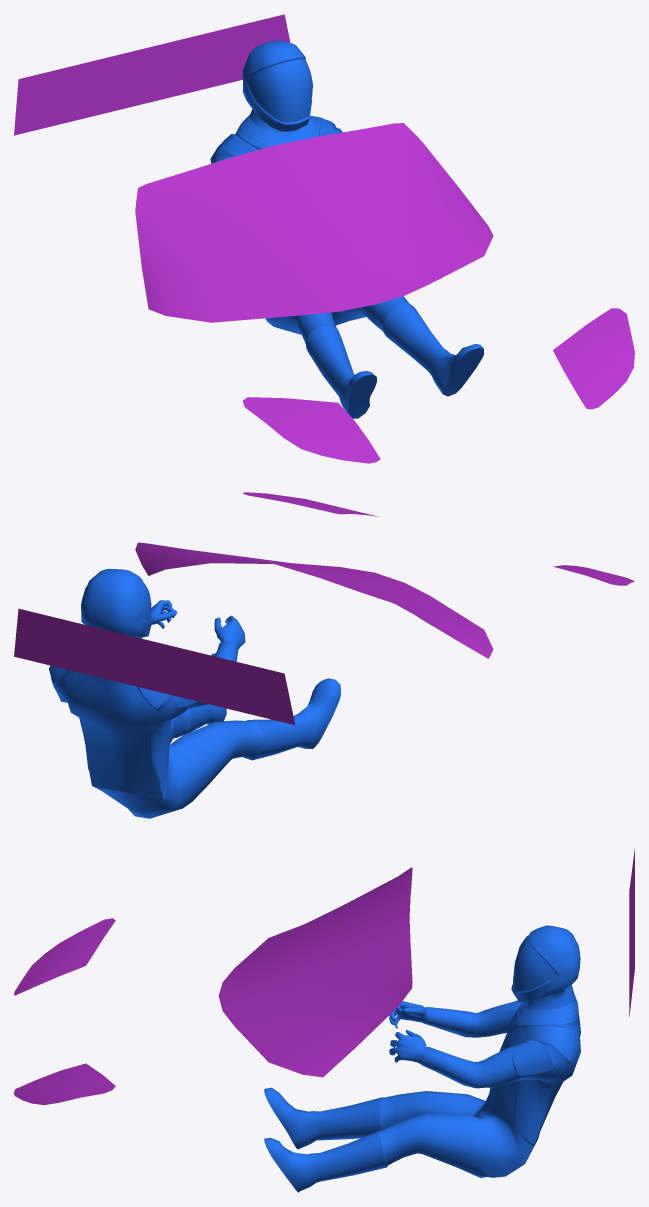
The model's file is starman.glb.
3 views of the same model, one above another, from view 1: azimuth 30°, elevation 25°; view 2: azimuth 150°, elevation 25°; view 3: azimuth 270°, elevation 25° (orthographic). The views are drawn at different scales.
Visible parts, largest first — view 1: object_2, object_0; view 2: object_0, object_2; view 3: object_0, object_2.
Boxes of the visible parts, bbox=[...] form: object_2: bbox=[14, 14, 634, 463]; object_0: bbox=[210, 40, 483, 418]; object_0: bbox=[49, 568, 340, 818]; object_2: bbox=[14, 492, 634, 724]; object_0: bbox=[264, 925, 580, 1192]; object_2: bbox=[14, 848, 634, 1104].
Size of the model in its own units: 0.7969 by 0.5235 by 1.2.
